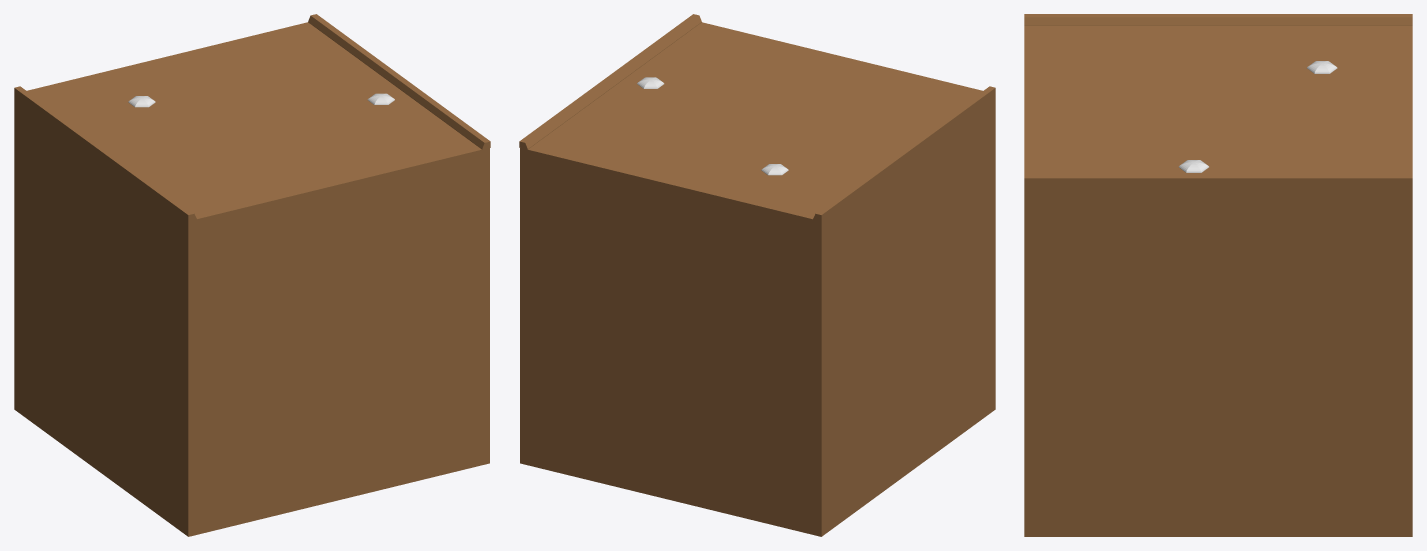
The model's file is dirt-road-2.gltf.
3 renders of one model, left to right at view 1: azimuth 30°, elevation 25°; view 2: azimuth 150°, elevation 25°; view 3: azimuth 270°, elevation 25°, orthographic. The views are drawn at different scales.
Parts seen in each view (by area): view 1: Cube.001, Cube.002; view 2: Cube.001, Cube.002; view 3: Cube.001, Cube.002.
Part boxes in pixels (bbox=[...]): Cube.001: bbox=[14, 22, 489, 536]; Cube.002: bbox=[14, 14, 490, 221]; Cube.001: bbox=[520, 22, 995, 536]; Cube.002: bbox=[519, 14, 995, 221]; Cube.001: bbox=[1024, 25, 1412, 536]; Cube.002: bbox=[1024, 14, 1412, 185].
Size of the model in its own units: 2 by 2.04 by 2.
